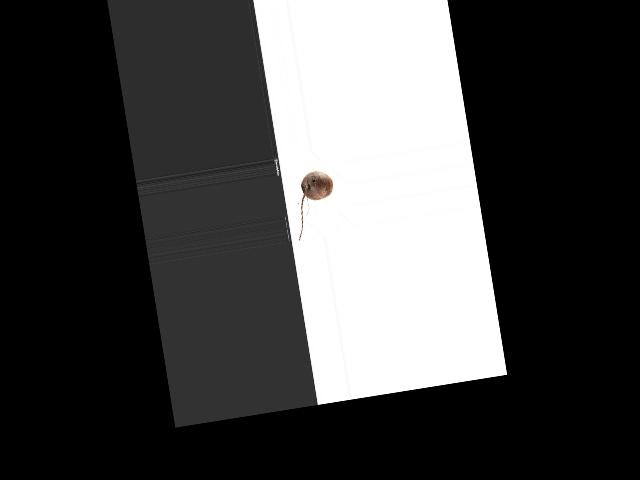beet: (288, 169, 340, 241)
